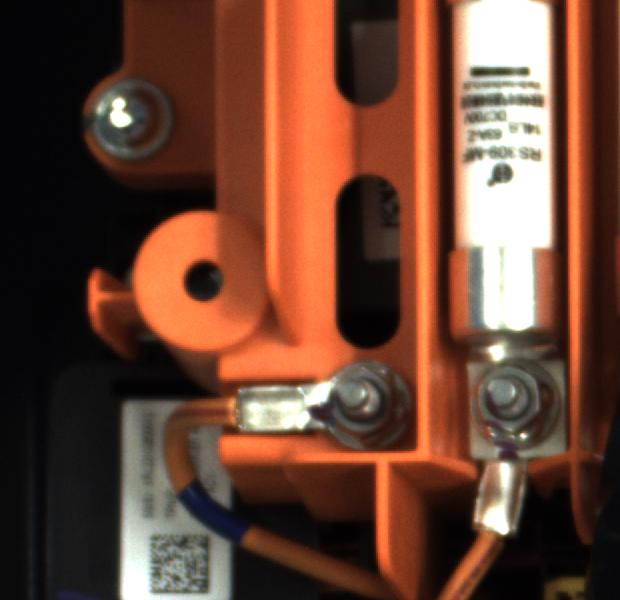screw_m: (82, 69, 185, 171)
screw_s: (306, 354, 409, 456), (468, 356, 563, 448)
